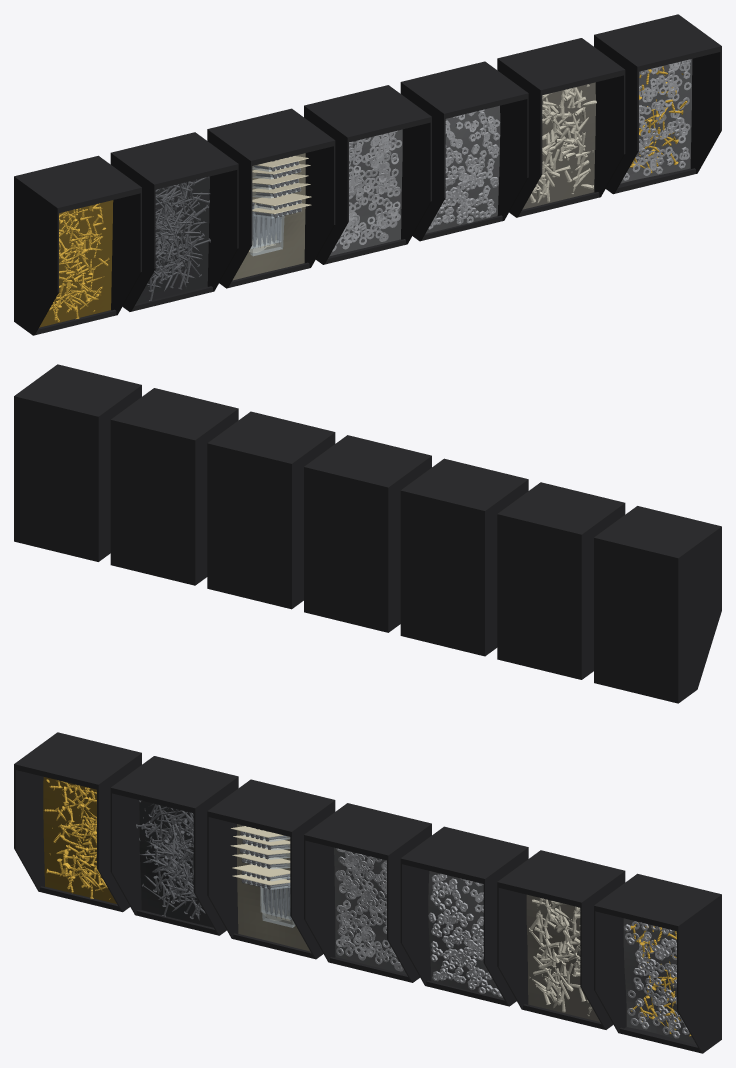
Rendered from todos_os_bins.obj.
3 views of the same model, one above another, from view 1: azimuth 30°, elevation 25°; view 2: azimuth 150°, elevation 25°; view 3: azimuth 330°, elevation 25° (orthographic).
Parts seen in each view (by area): view 1: bin_parafusos, bin_buchas, bin_pacotes_de_pregos, bin_porcas, bin_pregos, bin_arruelas, bin_ferragens_mistas; view 2: bin_parafusos, bin_pacotes_de_pregos, bin_buchas, bin_porcas, bin_pregos, bin_arruelas, bin_ferragens_mistas; view 3: bin_ferragens_mistas, bin_pregos, bin_porcas, bin_pacotes_de_pregos, bin_buchas, bin_arruelas, bin_parafusos.
Boxes of the visible parts, bbox=[...] form: bin_parafusos: bbox=[14, 155, 141, 335]; bin_buchas: bbox=[497, 38, 625, 217]; bin_pacotes_de_pregos: bbox=[207, 108, 335, 288]; bin_porcas: bbox=[400, 61, 528, 241]; bin_pregos: bbox=[110, 132, 238, 311]; bin_arruelas: bbox=[304, 85, 431, 264]; bin_ferragens_mistas: bbox=[594, 14, 721, 194]; bin_parafusos: bbox=[594, 506, 721, 703]; bin_pacotes_de_pregos: bbox=[400, 458, 528, 656]; bin_buchas: bbox=[110, 388, 238, 585]; bin_porcas: bbox=[207, 411, 335, 609]; bin_pregos: bbox=[497, 482, 625, 679]; bin_arruelas: bbox=[304, 435, 431, 632]; bin_ferragens_mistas: bbox=[14, 364, 141, 561]; bin_ferragens_mistas: bbox=[594, 873, 721, 1053]; bin_pregos: bbox=[110, 756, 238, 935]; bin_porcas: bbox=[400, 826, 528, 1006]; bin_pacotes_de_pregos: bbox=[207, 779, 335, 959]; bin_buchas: bbox=[497, 850, 625, 1029]; bin_arruelas: bbox=[304, 803, 431, 982]; bin_parafusos: bbox=[14, 732, 141, 912].
Size of the model in its own units: 1100 by 230 by 125.
